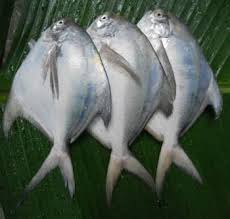Ikan Bawal: (6, 12, 106, 199), (130, 3, 223, 199), (79, 6, 164, 207)
